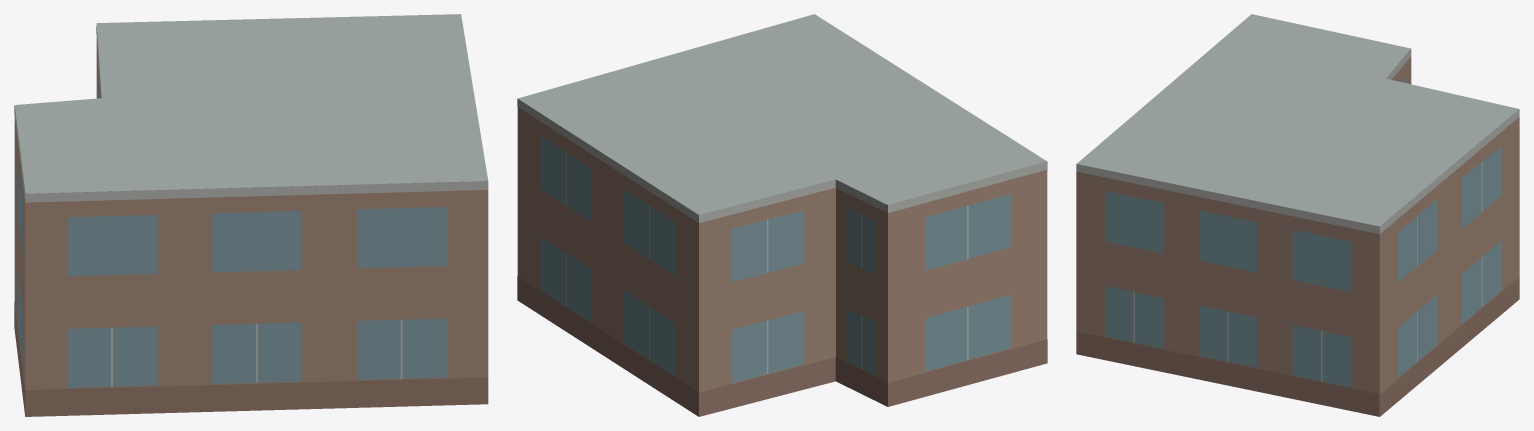
The model's file is survey-upis-32743246.glb.
The picture shows the model from 3 angles, left to right: view 1: azimuth 30°, elevation 25°; view 2: azimuth 150°, elevation 25°; view 3: azimuth 270°, elevation 25°; orthographic projection. The views are drawn at different scales.
Parts seen in each view (by area): view 1: survey-upis-32743246.tmp; view 2: survey-upis-32743246.tmp; view 3: survey-upis-32743246.tmp.
Boxes of the visible parts, <box> form: survey-upis-32743246.tmp: <box>14,14,488,416</box>; survey-upis-32743246.tmp: <box>517,14,1047,416</box>; survey-upis-32743246.tmp: <box>1076,14,1519,416</box>.
Bounding box in the file's own units: 14.63 × 6.1 × 12.88.
